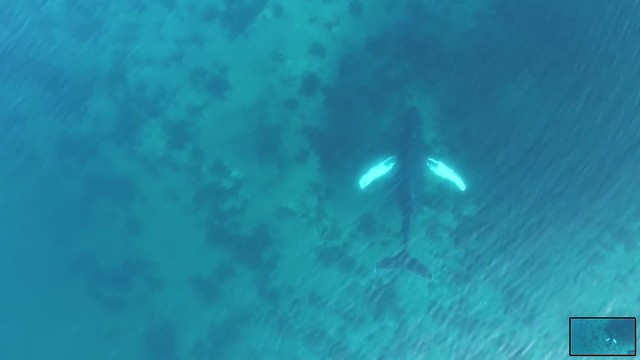whale: (351, 99, 473, 290)
